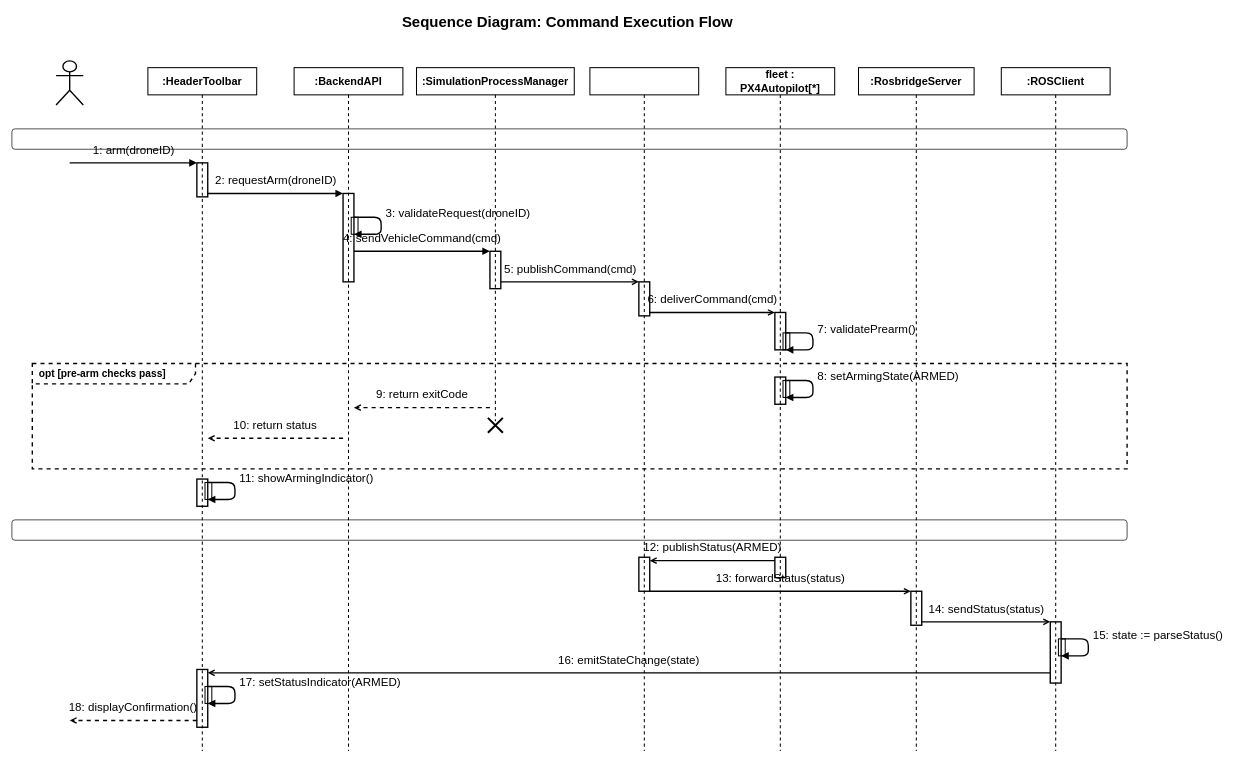
Image size: 1235x763. Some labels were removed from this diagram. The shapes that lost their labels are listed below. From the top down, each one's box as (x1, y1, x2, y2) in pixels, then its label:
(55, 60, 84, 105): :GCS_Operator
(11, 128, 1127, 149): Command Dispatch Phase: GCS → PX4 Autopilot
(589, 67, 699, 751): :XRCE_DDS_Agent
(11, 519, 1127, 540): Telemetry Confirmation Phase: Asynchronous Status Update
